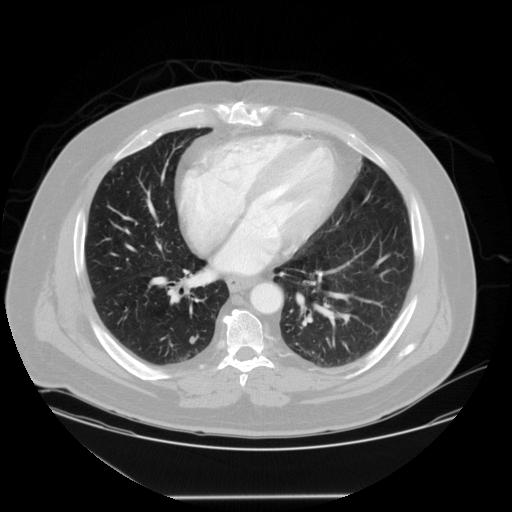nodule: (186, 334, 198, 346)
